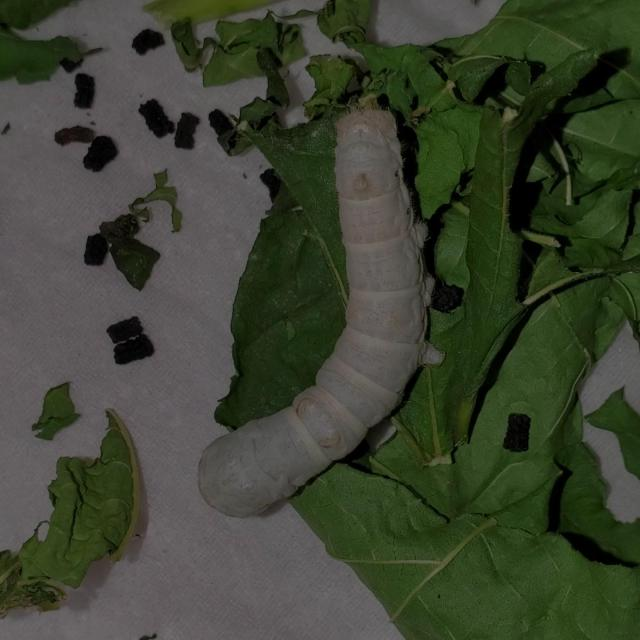Healthy: (180, 74, 457, 546)
